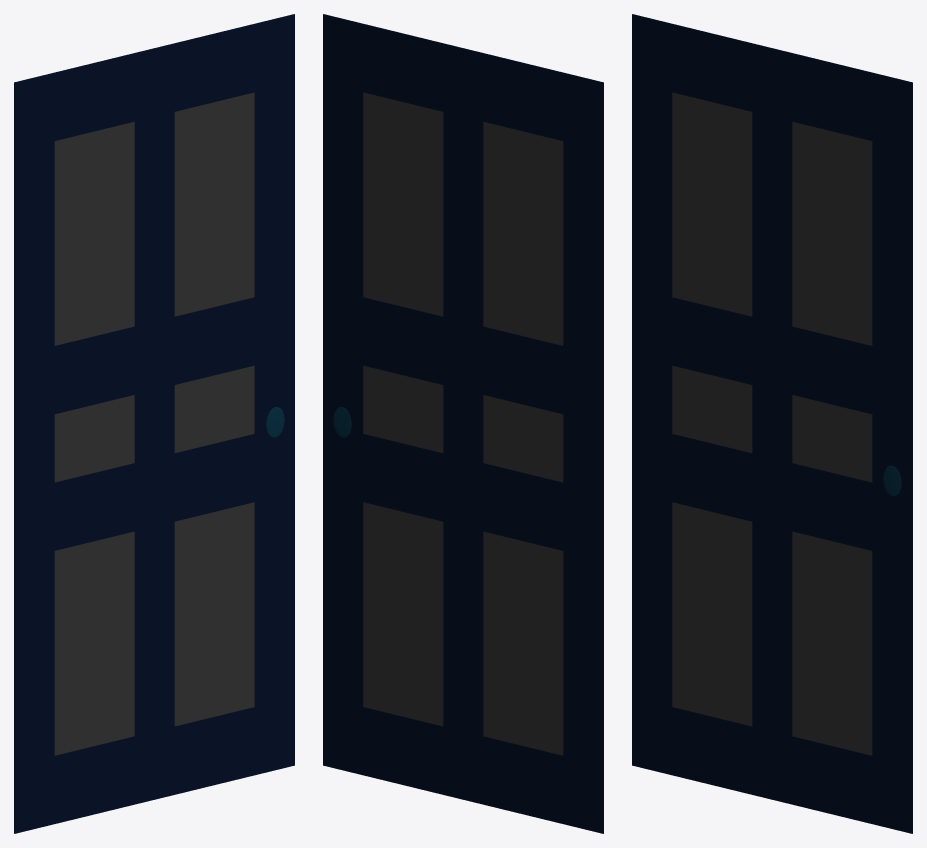
The model's file is left_hinge_door.fbx.
3 views of the same model, side by side, from view 1: azimuth 30°, elevation 25°; view 2: azimuth 150°, elevation 25°; view 3: azimuth 330°, elevation 25° (orthographic).
Parts seen in each view (by area): view 1: door; view 2: door; view 3: door.
Part boxes in pixels (bbox=[...]): door: bbox=[14, 14, 294, 833]; door: bbox=[323, 14, 603, 833]; door: bbox=[632, 14, 912, 833].
Size of the model in its own units: 5000 by 12800 by 47.72.
